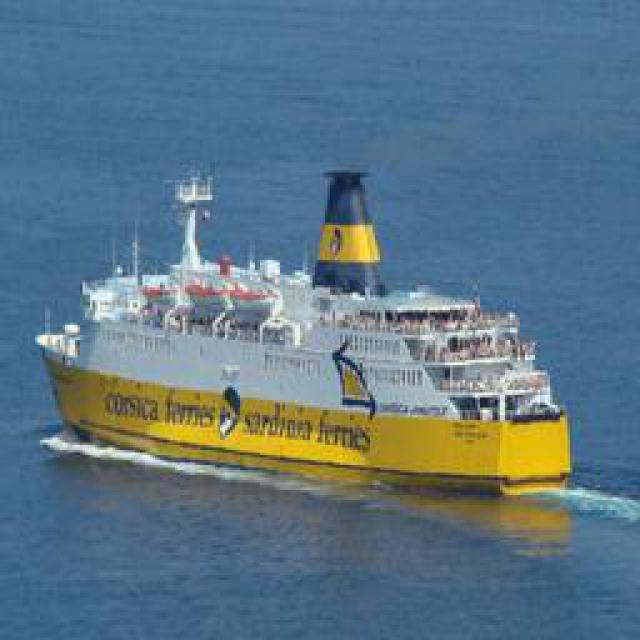Ship: (32, 161, 582, 484)
